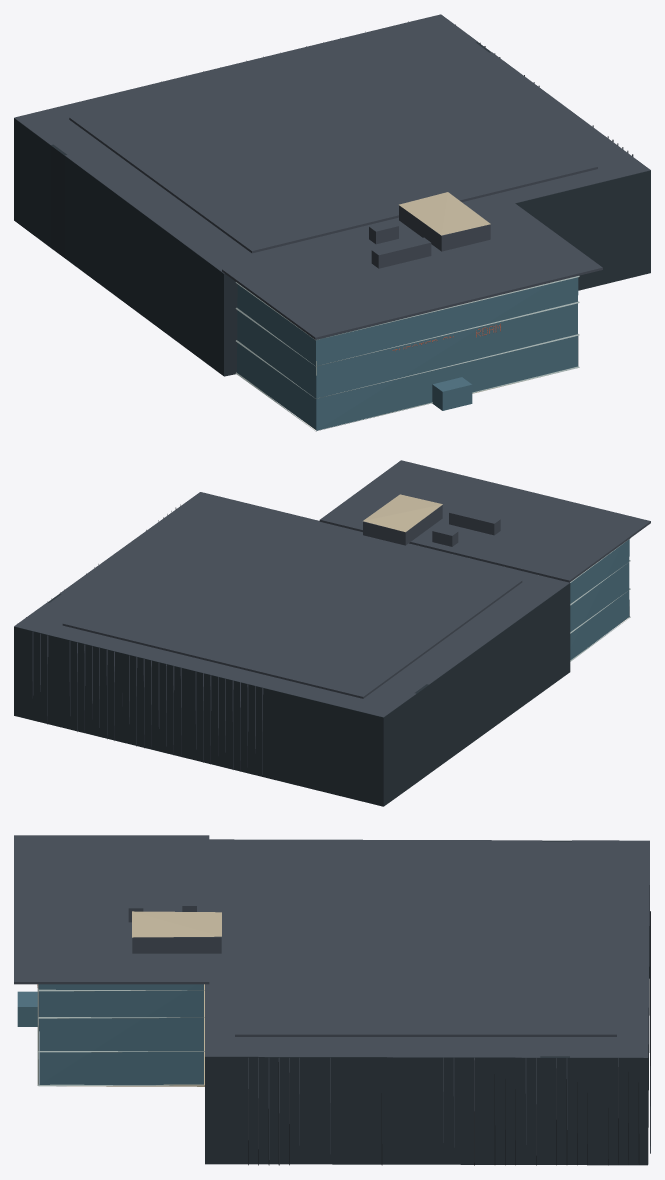
File: theater-amsterdam.lod1.glb
The picture shows the model from 3 angles, top to bottom: view 1: azimuth 30°, elevation 25°; view 2: azimuth 150°, elevation 25°; view 3: azimuth 270°, elevation 25°; orthographic projection. The views are drawn at different scales.
Parts seen in each view (by area): view 1: theater-amsterdam; view 2: theater-amsterdam; view 3: theater-amsterdam.
Part boxes in pixels (bbox=[...]): theater-amsterdam: bbox=[14, 14, 650, 431]; theater-amsterdam: bbox=[14, 460, 650, 806]; theater-amsterdam: bbox=[14, 835, 650, 1165].
Bounding box in the file's own units: 70.56 × 19.25 × 86.73.
